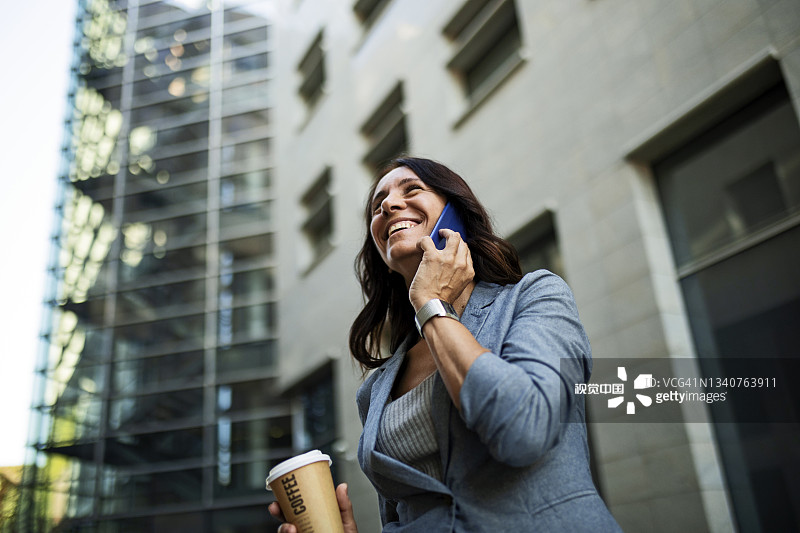calling: (403, 201, 497, 334)
